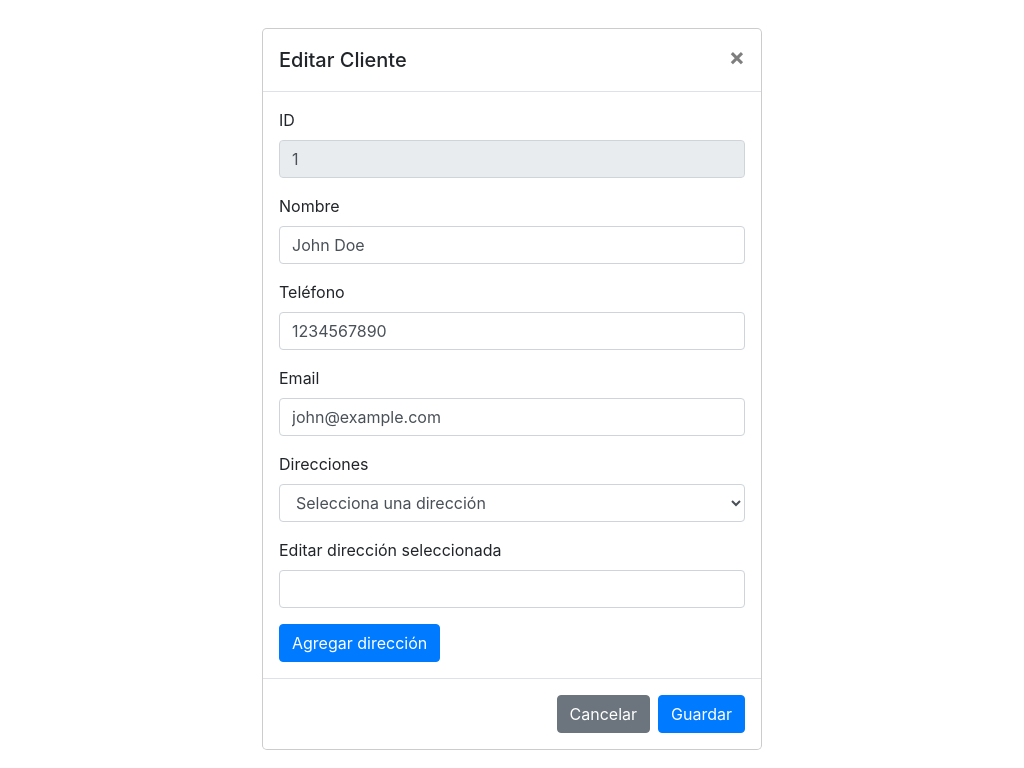
ModalEditar › actualiza la dirección seleccionada cuando se selecciona una nueva dirección
Select "Calle 2, Ciudad 2, País 2" in the dropdown at (512, 503), box x1=279 y1=484 x2=745 y2=522
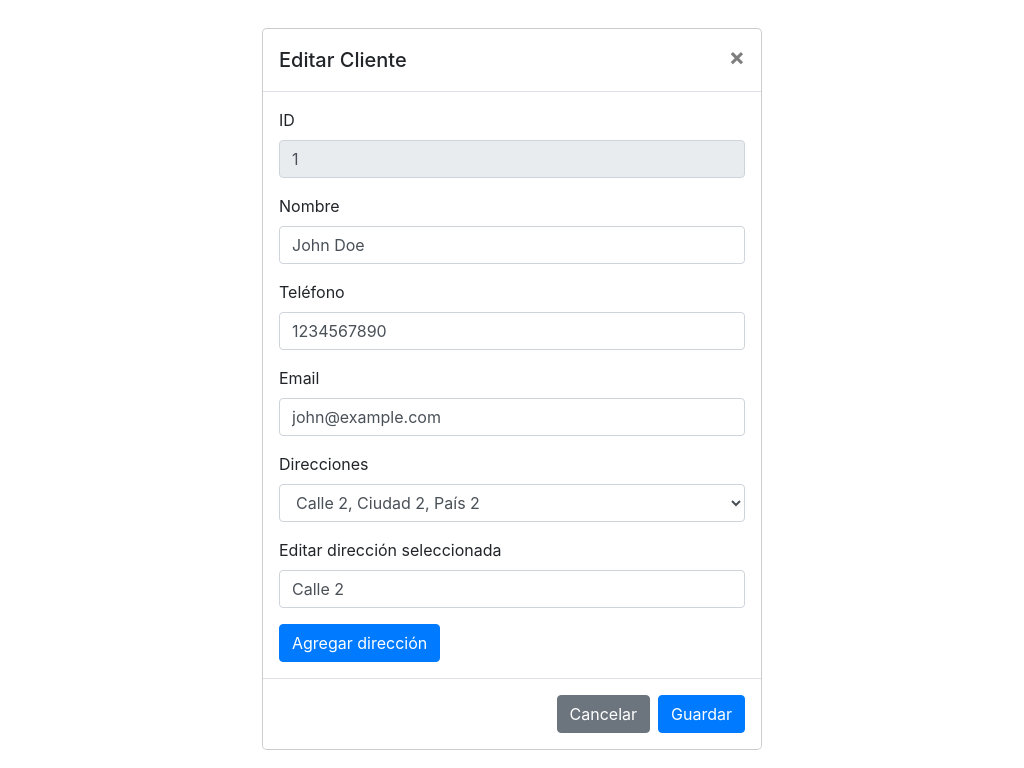
Expected: the field showing "Calle 2" below "Editar dirección seleccionada" is shown, x1=279 y1=570 x2=745 y2=608
